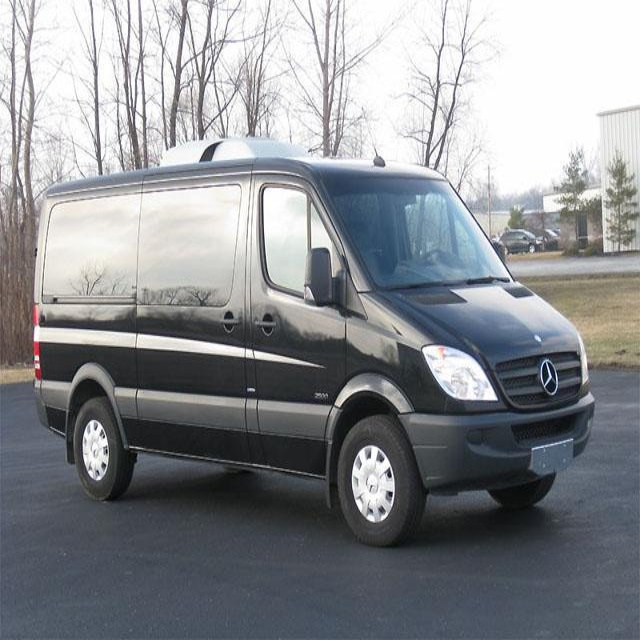Car: (499, 228, 547, 255)
Van: (31, 157, 594, 547)
